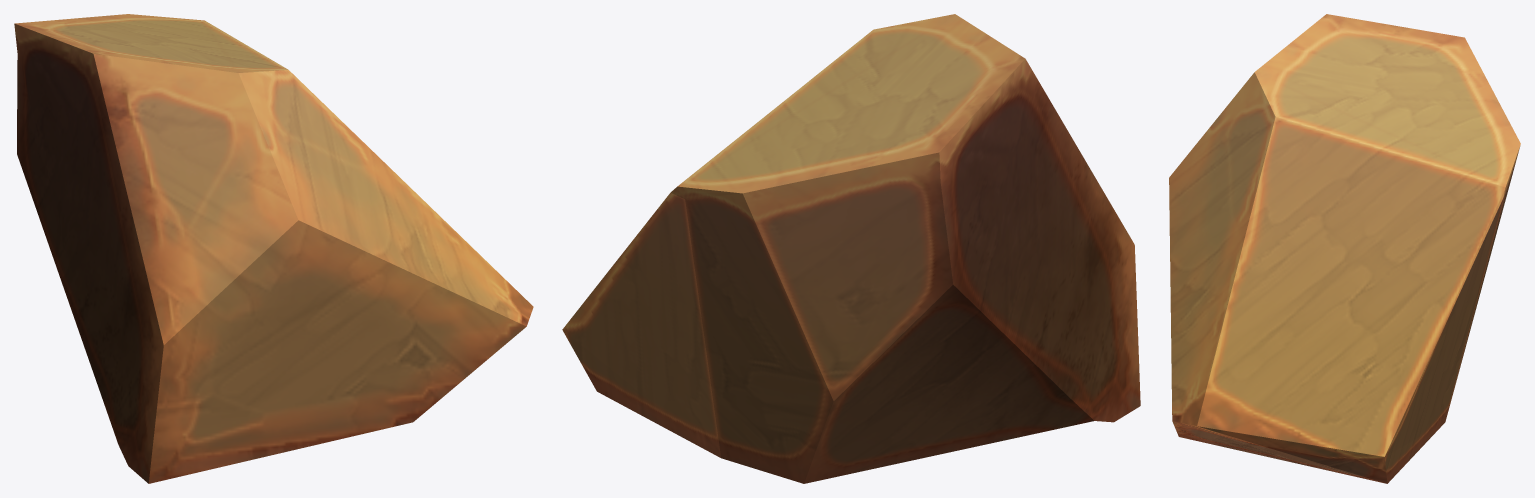
File: rocks_6.fbx
3 renders of one model, left to right at view 1: azimuth 30°, elevation 25°; view 2: azimuth 150°, elevation 25°; view 3: azimuth 270°, elevation 25°, orthographic. The views are drawn at different scales.
Parts seen in each view (by area): view 1: Cube.003_cell.047; view 2: Cube.003_cell.047; view 3: Cube.003_cell.047.
Boxes of the visible parts, box(x1,y1,x2,y2) form: Cube.003_cell.047: box(14, 14, 533, 483); Cube.003_cell.047: box(562, 14, 1140, 483); Cube.003_cell.047: box(1169, 14, 1520, 483).
Bounding box in the file's own units: 96.34 × 82.23 × 81.3.
